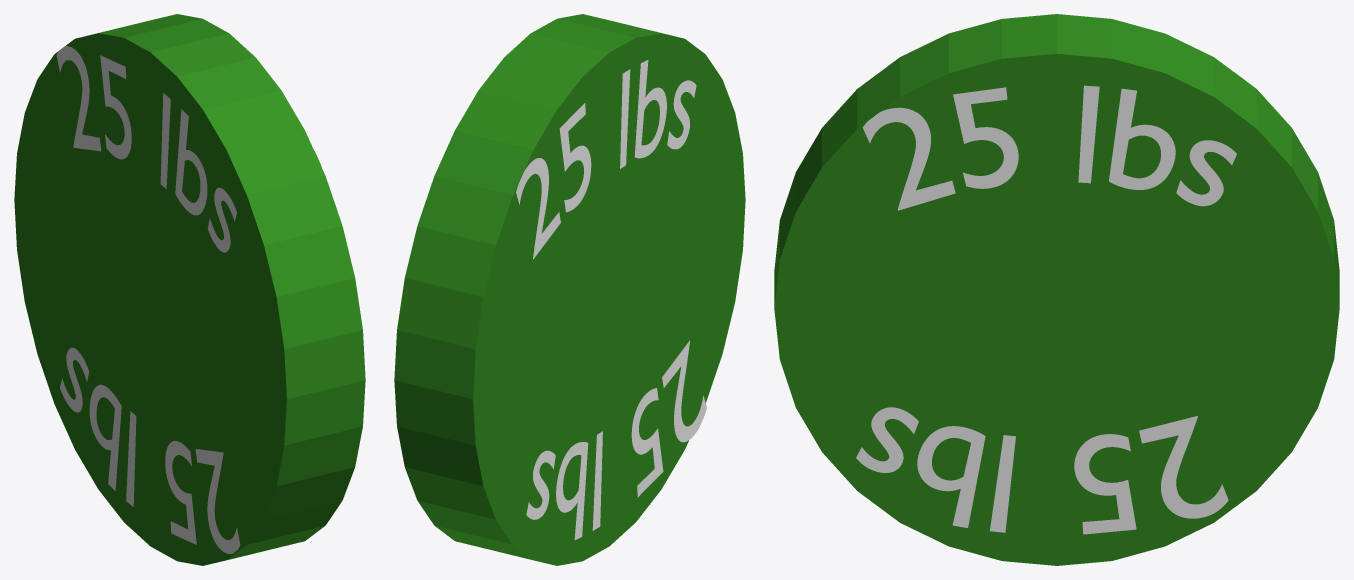
Rendered from 25plate.fbx.
The picture shows the model from 3 angles, left to right: view 1: azimuth 30°, elevation 25°; view 2: azimuth 150°, elevation 25°; view 3: azimuth 270°, elevation 25°; orthographic projection. The views are drawn at different scales.
Visible parts, largest first — view 1: Cylinder, Text.003, Text.002; view 2: Cylinder, Text.003, Text.002; view 3: Cylinder, Text.001, Text.
Part boxes in pixels (x1,y1,x2,y2): Cylinder: (14,14,365,565); Text.003: (60,347,240,554); Text.002: (56,46,236,252); Cylinder: (394,14,745,565); Text.003: (526,340,706,539); Text.002: (516,60,696,259); Cylinder: (774,14,1339,565); Text.001: (856,407,1228,534); Text: (862,85,1236,210).
Size of the model in its own units: 63.3 by 360 by 360.
